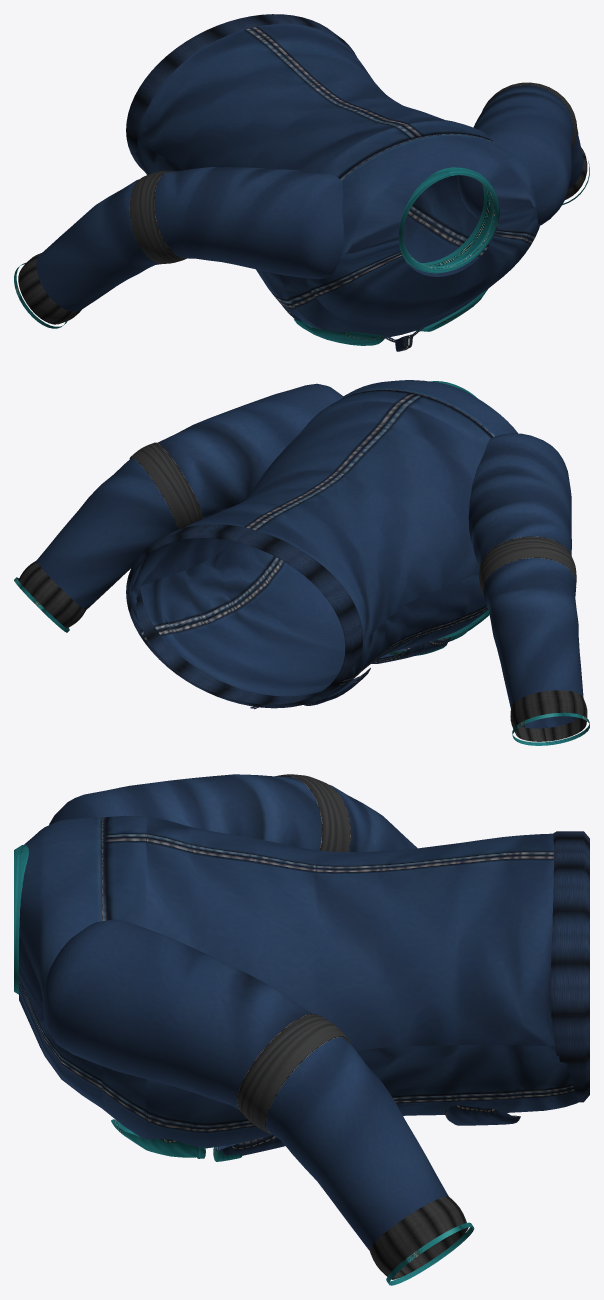
The model's file is Aurora-Jacket.obj.
The picture shows the model from 3 angles, top to bottom: view 1: azimuth 30°, elevation 25°; view 2: azimuth 150°, elevation 25°; view 3: azimuth 270°, elevation 25°; orthographic projection. The views are drawn at different scales.
Parts seen in each view (by area): view 1: Aurora_Jacket; view 2: Aurora_Jacket; view 3: Aurora_Jacket.
Boxes of the visible parts, x1,y1,x2,y2 form: Aurora_Jacket: [14, 14, 589, 351]; Aurora_Jacket: [14, 380, 589, 745]; Aurora_Jacket: [14, 774, 589, 1285].
Bounding box in the file's own units: 0.8573 × 0.3264 × 0.558.
Materials: 1 (1 with a texture image).
